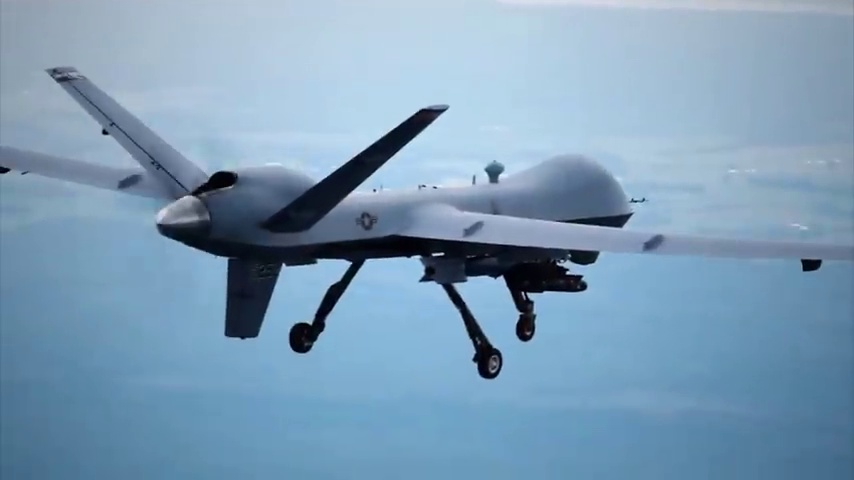military drone: (0, 66, 854, 379)
